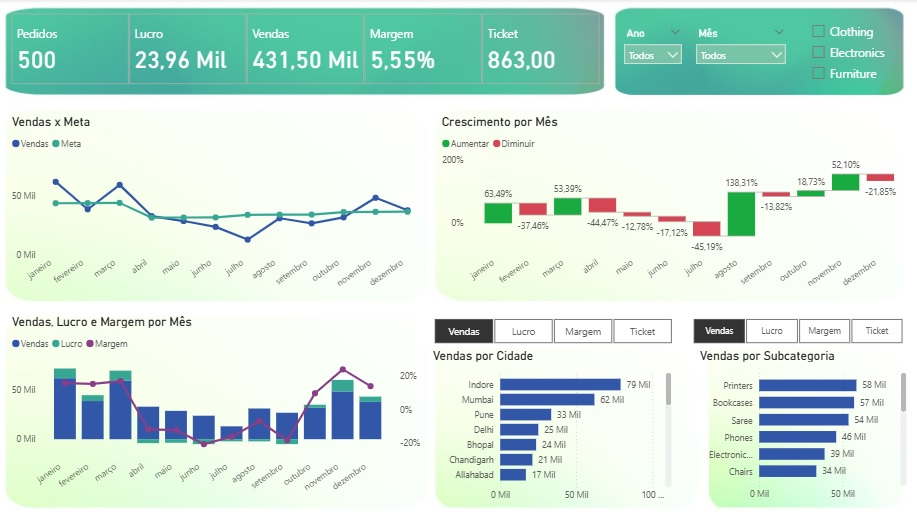

This screenshot's page, from the dashboard's own definition file:
{"tool":"powerbi","page":{"name":"Página 1","canvas":[1280,720],"ordinal":0},"visuals":[{"type":"cardVisual","fields":{"Data":["medidas.Pedidos","medidas.Lucro","medidas.Vendas","medidas.Margem","medidas.Ticket Medio"]},"box":[24.8,15.1,823.1,107.4],"z":0},{"type":"slicer","fields":{"Values":["calendario.Ano"]},"box":[863,34.4,99.1,86.7],"z":1000},{"type":"slicer","fields":{"Values":["calendario.Nome Mes"]},"box":[962.1,34.4,143.1,158.3],"z":2000},{"type":"slicer","fields":{"Values":["metas.category"]},"box":[1119,24.8,129.4,106],"z":3000},{"type":"lineChart","title":"Vendas x Meta","fields":{"Category":["calendario.Data.Variation.Hierarquia de datas.Ano","calendario.Data.Variation.Hierarquia de datas.Mês"],"Y":["medidas.Vendas","Sum(metas.target)"]},"box":[24.8,158.3,572.6,260.1],"z":4000},{"type":"lineStackedColumnComboChart","fields":{"Category":["calendario.Data.Variation.Hierarquia de datas.Ano","calendario.Data.Variation.Hierarquia de datas.Mês"],"Y":["medidas.Vendas","medidas.Lucro"],"Y2":["medidas.Margem"]},"box":[24.8,433.5,572.6,265.6],"z":5000},{"type":"waterfallChart","fields":{"Category":["calendario.Ano Mes.Variation.Hierarquia de datas.Mês"],"Y":["medidas.Crescimento"]},"box":[616.6,158.3,652.4,260.1],"z":6000},{"type":"clusteredBarChart","fields":{"Y":["medidas.Vendas"],"Category":["clientes.city"]},"box":[604.2,480.3,338.6,220.2],"z":7000},{"type":"slicer","fields":{"Values":["Selecao Cidade.Selecao Cidade"]},"box":[586.3,433.5,375.7,46.8],"z":8000},{"type":"clusteredBarChart","fields":{"Y":["medidas.Vendas"],"Category":["vendas.subcategory"]},"box":[971.7,480.3,294.5,218.8],"z":9000},{"type":"slicer","fields":{"Values":["Selecao Subcategoria.Selecao Subcategoria"]},"box":[942.8,433.5,337.2,46.8],"z":10000}]}

Visuals, with their boxes in screenshot pixels (x1, y1, x2, y2), scaled from the page's 1280x720 canvas onto the 917x515 screenshot:
cardVisual - medidas.Pedidos x medidas.Lucro: crop(18, 11, 607, 88)
slicer - calendario.Ano: crop(618, 25, 689, 87)
slicer - calendario.Nome Mes: crop(689, 25, 792, 138)
slicer - metas.category: crop(802, 18, 894, 94)
"Vendas x Meta" lineChart: crop(18, 113, 428, 299)
lineStackedColumnComboChart - calendario.Data.Variation.Hierarquia de datas.Ano x calendario.Data.Variation.Hierarquia de datas.Mês: crop(18, 310, 428, 500)
waterfallChart - calendario.Ano Mes.Variation.Hierarquia de datas.Mês x medidas.Crescimento: crop(442, 113, 909, 299)
clusteredBarChart - medidas.Vendas x clientes.city: crop(433, 344, 675, 501)
slicer - Selecao Cidade.Selecao Cidade: crop(420, 310, 689, 344)
clusteredBarChart - medidas.Vendas x vendas.subcategory: crop(696, 344, 907, 500)
slicer - Selecao Subcategoria.Selecao Subcategoria: crop(675, 310, 916, 344)
